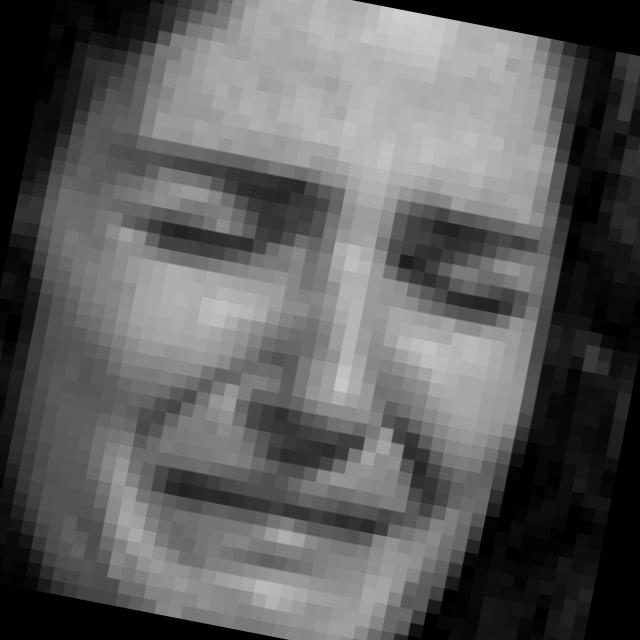sad: (26, 132, 548, 623)
